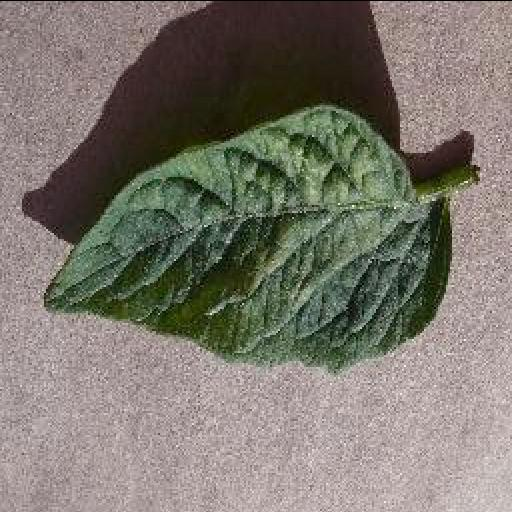disease_tomato: (38, 106, 456, 368)
